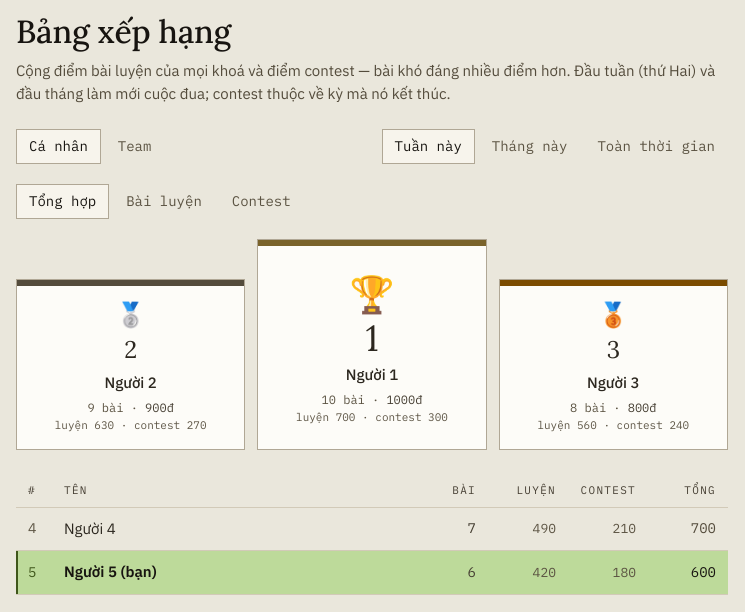
Test: BXHPage › đổi sang Team gọi lại API scope=team và hiện số người
Expected: the text "Người 1" is shown, top-left (346, 364), bottom-right (398, 386)
Click the tab "Team": (135, 146) top-left (105, 129), bottom-right (164, 164)
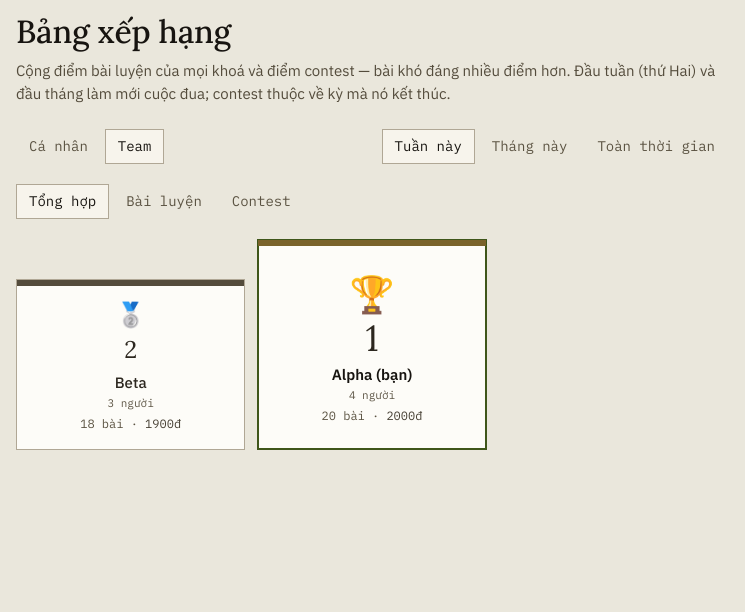
Expected: the text "4 người" is shown, top-left (349, 386), bottom-right (395, 403)
Expected: the text "Alpha (bạn)" is shown, top-left (332, 364), bottom-right (412, 386)
